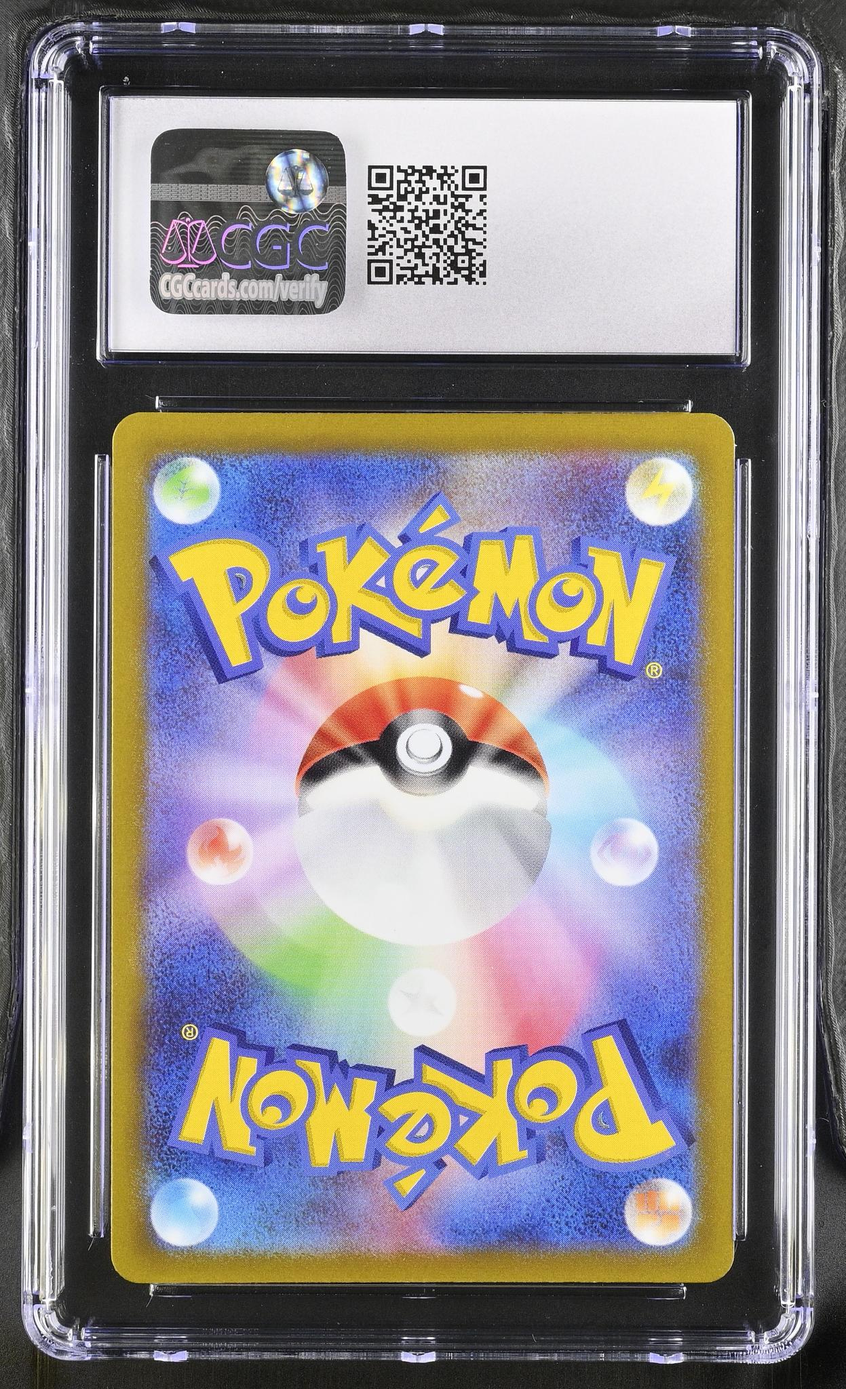card-2UtV: (111, 412, 735, 1284)
